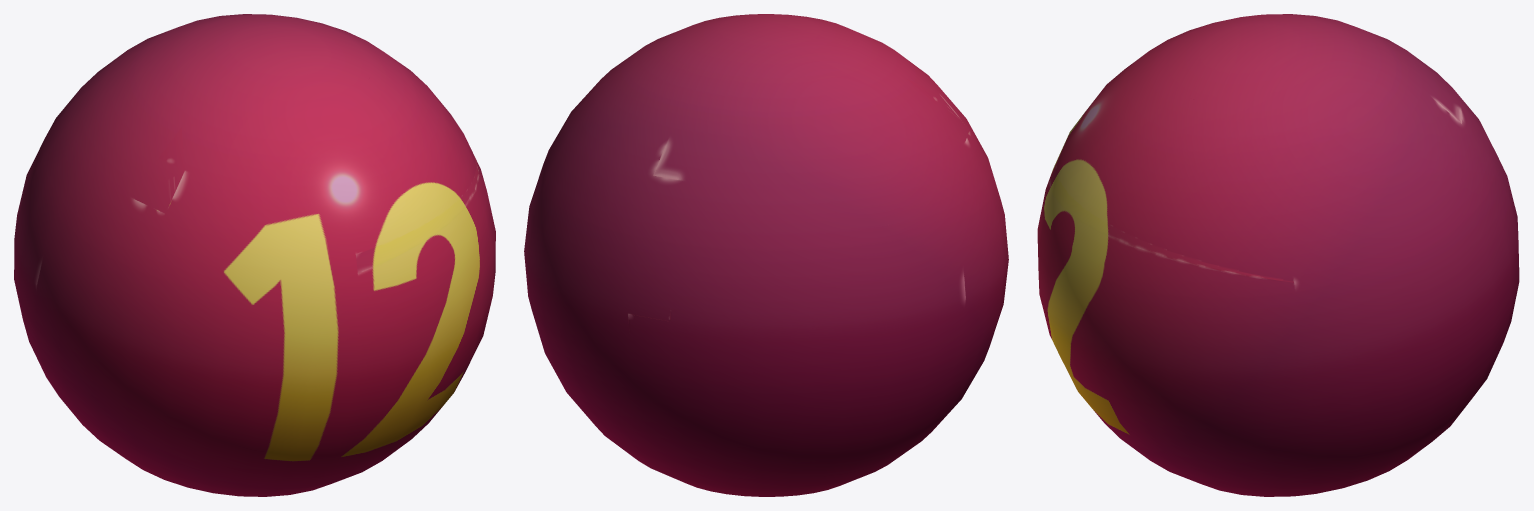
Rendered from Enemy 12.fbx.
3 views of the same model, side by side, from view 1: azimuth 30°, elevation 25°; view 2: azimuth 150°, elevation 25°; view 3: azimuth 270°, elevation 25° (orthographic).
Parts seen in each view (by area): view 1: Body 1.011; view 2: Body 1.011; view 3: Body 1.011.
Boxes of the visible parts, bbox=[...] form: Body 1.011: bbox=[14, 14, 495, 496]; Body 1.011: bbox=[524, 14, 1008, 496]; Body 1.011: bbox=[1037, 14, 1519, 496].
Bounding box in the file's own units: 472 × 474 × 472.
1 material, 1 textured.
